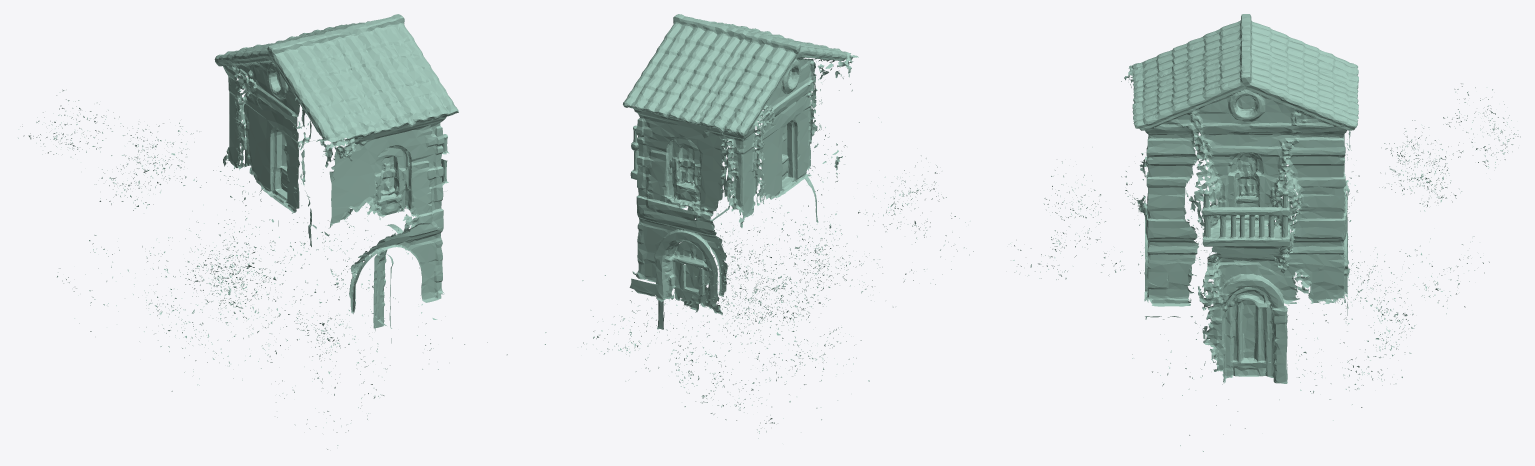
The model's file is ghibli-block-09-building-0.glb.
3 views of the same model, side by side, from view 1: azimuth 30°, elevation 25°; view 2: azimuth 150°, elevation 25°; view 3: azimuth 270°, elevation 25° (orthographic). The views are drawn at different scales.
Parts seen in each view (by area): view 1: building_0; view 2: building_0; view 3: building_0.
Boxes of the visible parts, x1=… form: building_0: x1=18, y1=14, x2=546, y2=449; building_0: x1=581, y1=14, x2=973, y2=438; building_0: x1=1010, y1=14, x2=1520, y2=451.
Size of the model in its own units: 0.8904 by 0.7721 by 1.11.
